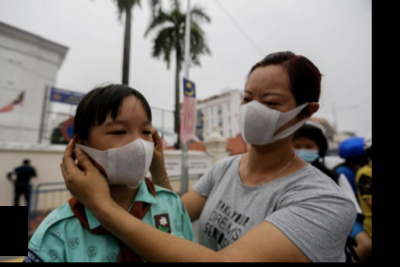with_mask: (90, 117, 155, 187), (236, 85, 295, 148)
